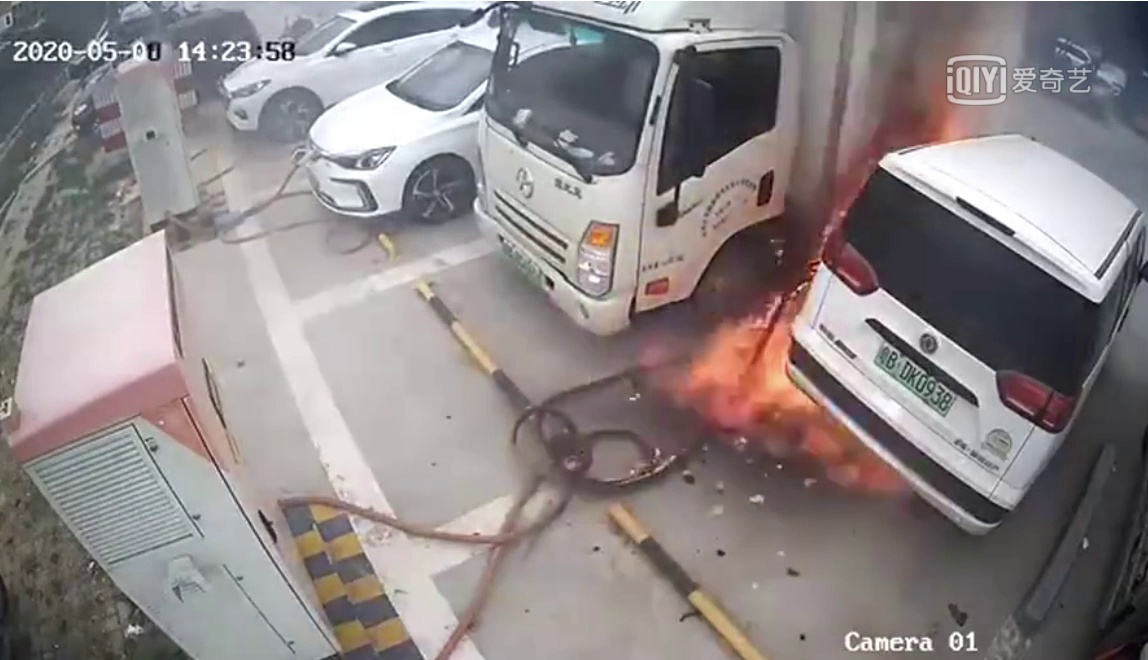fire: (688, 290, 815, 430)
